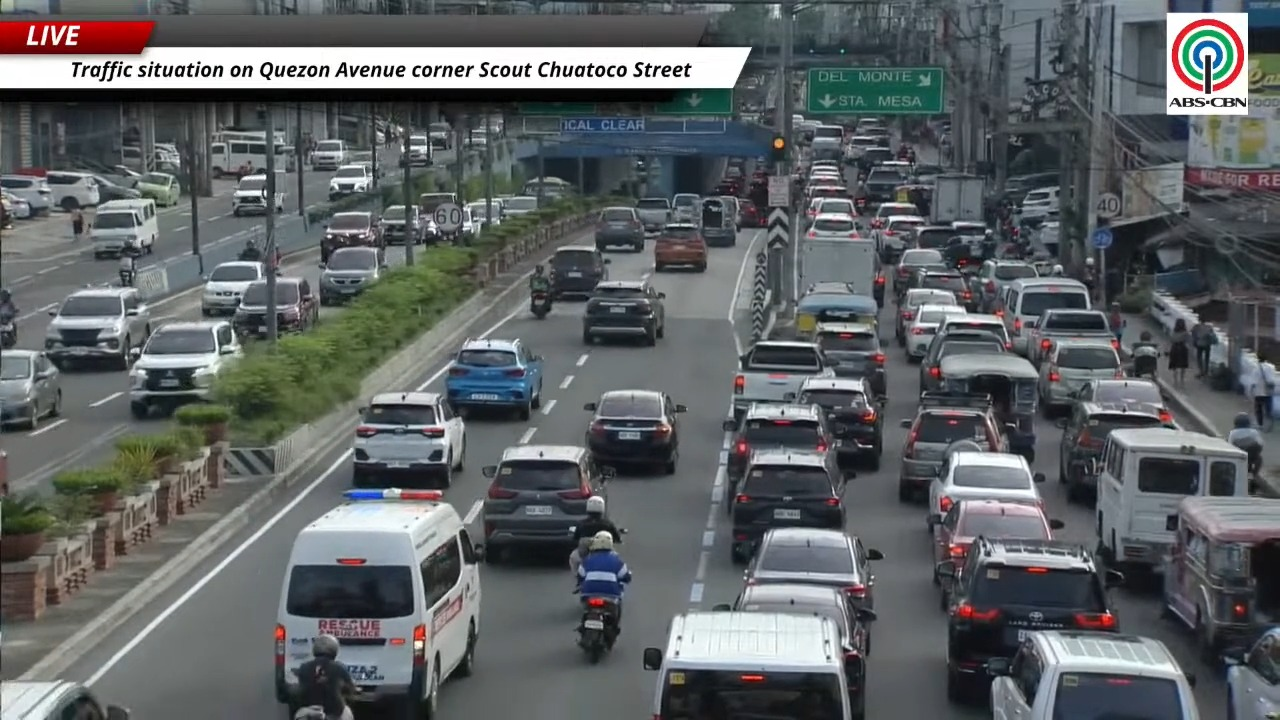bus: (210, 131, 265, 177)
car: (272, 488, 483, 717), (936, 539, 1122, 701), (713, 583, 875, 719), (986, 630, 1203, 719), (481, 444, 612, 562), (729, 448, 855, 563), (1057, 399, 1172, 501), (898, 393, 1006, 501), (128, 320, 242, 419), (744, 527, 882, 608), (352, 391, 464, 488), (723, 402, 832, 494), (927, 451, 1044, 530), (45, 287, 151, 369), (584, 389, 686, 474), (934, 499, 1063, 565), (444, 338, 543, 420), (797, 377, 882, 469), (1038, 339, 1123, 416), (814, 322, 886, 398), (582, 280, 664, 345), (919, 332, 1007, 391), (0, 680, 129, 719), (0, 348, 61, 429), (1226, 626, 1279, 719), (1075, 377, 1173, 425), (317, 247, 385, 305), (895, 288, 957, 346), (904, 304, 965, 362), (201, 261, 265, 316), (972, 259, 1037, 311), (320, 211, 383, 262), (549, 246, 609, 299), (936, 313, 1012, 350), (871, 215, 925, 263), (654, 223, 707, 271), (231, 172, 286, 216), (275, 277, 318, 333), (893, 248, 943, 296), (918, 271, 975, 311), (45, 171, 102, 211), (594, 206, 644, 251), (0, 174, 52, 216), (379, 205, 424, 244), (862, 165, 904, 205), (328, 164, 373, 200), (134, 173, 180, 206), (459, 199, 502, 234), (901, 262, 951, 292), (869, 202, 919, 229), (806, 214, 859, 239), (311, 139, 350, 170), (908, 225, 953, 250), (0, 190, 32, 220), (671, 193, 701, 222), (718, 195, 741, 231), (814, 198, 857, 217), (740, 198, 766, 227), (504, 195, 538, 217), (804, 281, 858, 294), (912, 163, 944, 184), (806, 185, 848, 200), (801, 198, 821, 229)
motorcycle: (578, 597, 616, 663), (1132, 346, 1159, 380), (570, 537, 588, 577), (530, 290, 550, 319), (0, 316, 16, 348), (424, 221, 443, 244), (118, 268, 135, 286)
truck: (731, 340, 833, 421), (797, 238, 883, 302), (1027, 309, 1118, 366), (928, 173, 984, 224), (636, 197, 672, 233), (273, 171, 287, 213)
